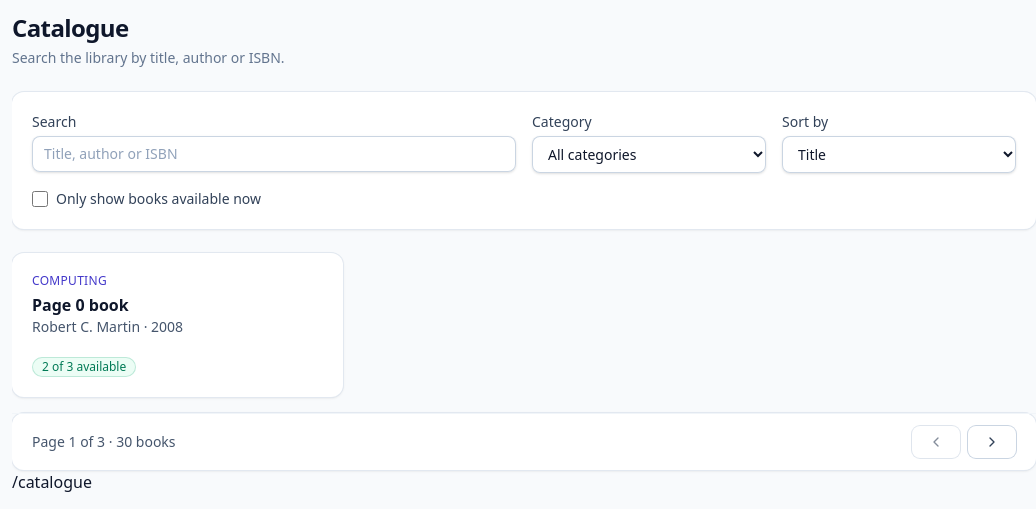
Test case: CataloguePage › pages through the results
Expected: the text "Page 0 book" is shown, [32,294,129,316]
Expected: the text "Page 1 of 3 · 30 books" is shown, [32,432,176,452]
Click the button named "Next page".
click(992, 442)  # box [968,426,1016,458]
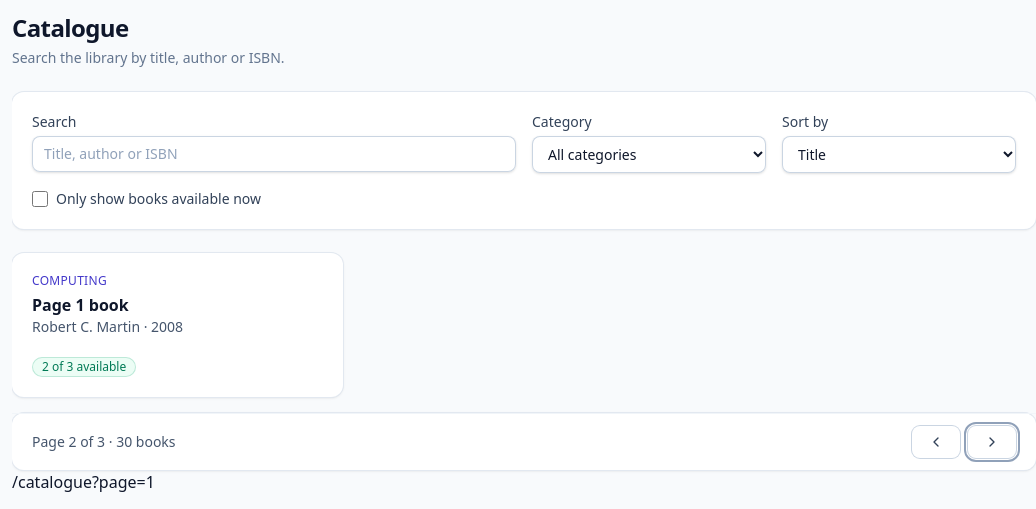
Now the text "Page 1 book" is shown, box [32,294,129,316]
